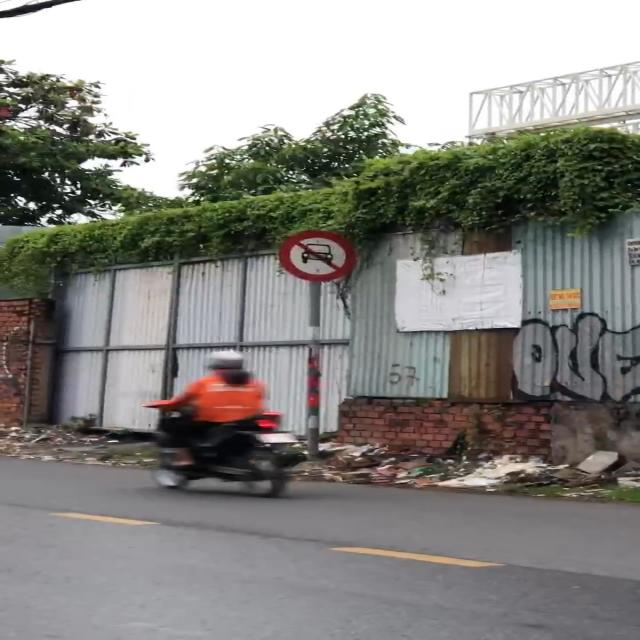Bien bao cam xe oto: (275, 229, 359, 282)
